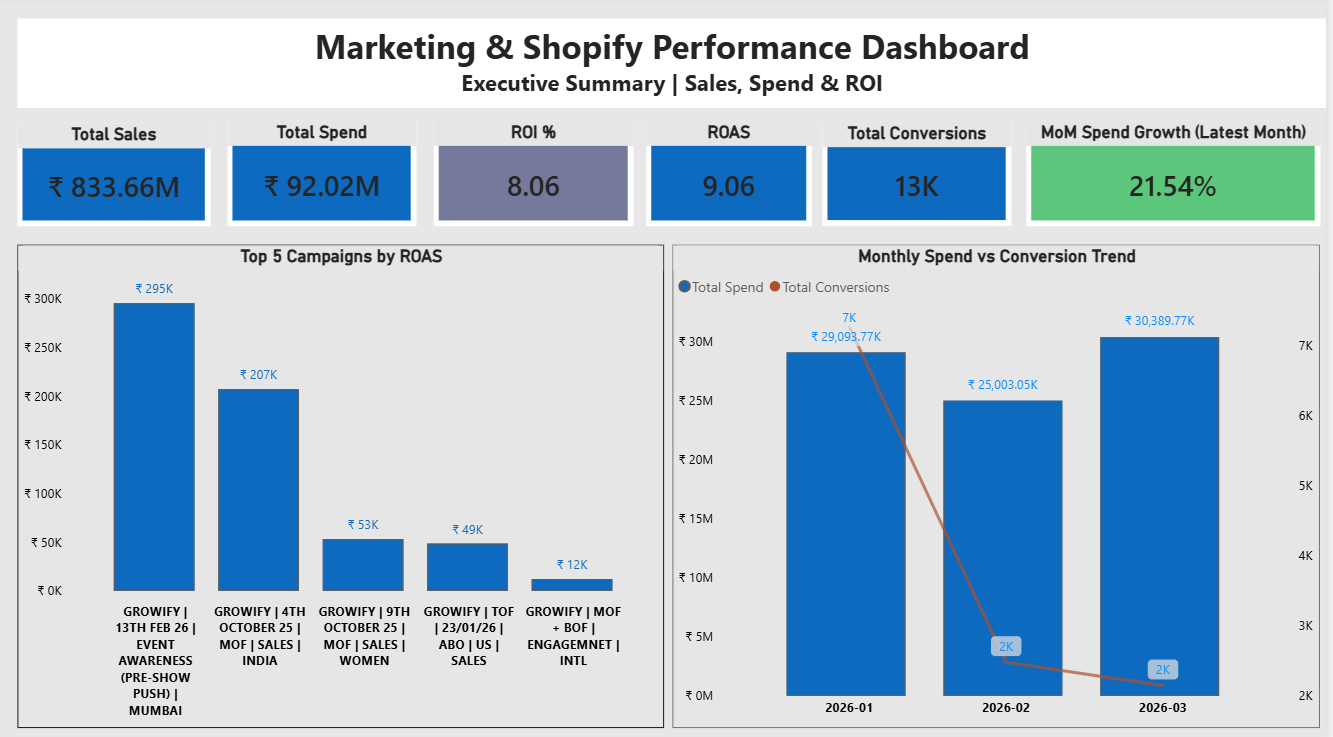

What the dashboard file says about the page in this screenshot:
{"tool":"powerbi","page":{"name":"Executive Summary","canvas":[1280,720],"ordinal":0},"visuals":[{"type":"textbox","box":[16.5,21.5,1263.8,86.2],"z":0},{"type":"cardVisual","title":"Total Spend","fields":{"Data":["DAX.Total Spend"]},"box":[219.3,120.4,182.5,101.4],"z":1000},{"type":"cardVisual","title":"Total Sales","fields":{"Data":["DAX.Total Sales"]},"box":[16.5,123,186.3,98.9],"z":2000},{"type":"cardVisual","title":"ROI %","fields":{"Data":["DAX.ROI"]},"box":[418.3,120.4,192.7,101.4],"z":3000},{"type":"cardVisual","title":"Total Conversions","fields":{"Data":["DAX.Total Conversions"]},"box":[793.5,121.7,182.5,100.1],"z":4000},{"type":"cardVisual","title":"ROAS","fields":{"Data":["DAX.ROAS"]},"box":[623.7,120.4,159.7,101.4],"z":5000},{"type":"lineClusteredColumnComboChart","title":"Monthly Spend vs Conversion Trend","fields":{"Category":["Calendar.YearMonth"],"Y":["DAX.Total Spend"],"Y2":["DAX.Total Conversions"]},"box":[649,239.6,624.9,466.5],"z":6000},{"type":"clusteredColumnChart","title":"Top 5 Campaigns by ROAS","fields":{"Category":["Campaign_Cleaned.Campaign Name"],"Y":["DAX.ROAS"]},"box":[16.5,239.6,623.7,466.5],"z":7000},{"type":"cardVisual","title":"MoM Spend Growth (Latest Month)","fields":{"Data":["DAX.Latest MoM Spend Change %"]},"box":[990,120.4,283.9,101.4],"z":8000}]}

Visuals, with their boxes in screenshot pixels (x1, y1, x2, y2), scaled from the page's 1280x720 canvas onto the 1333x737 screenshot:
textbox: 17, 22, 1332, 110
"Total Spend" cardVisual: 228, 123, 418, 227
"Total Sales" cardVisual: 17, 126, 211, 227
"ROI %" cardVisual: 436, 123, 636, 227
"Total Conversions" cardVisual: 826, 125, 1016, 227
"ROAS" cardVisual: 650, 123, 816, 227
"Monthly Spend vs Conversion Trend" lineClusteredColumnComboChart: 676, 245, 1327, 723
"Top 5 Campaigns by ROAS" clusteredColumnChart: 17, 245, 667, 723
"MoM Spend Growth (Latest Month)" cardVisual: 1031, 123, 1327, 227
